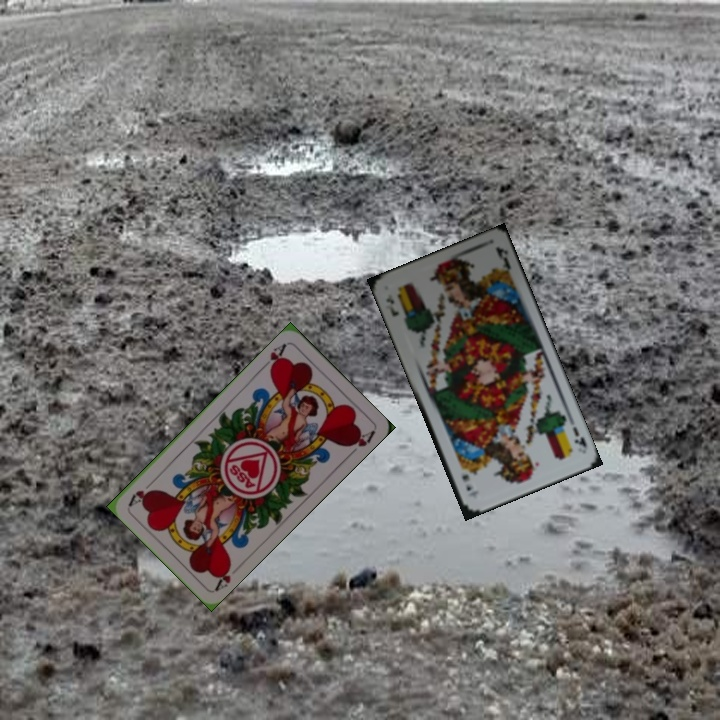EK: (568, 423, 590, 453), (382, 290, 402, 319)
HA: (257, 339, 289, 374), (211, 559, 234, 593)
